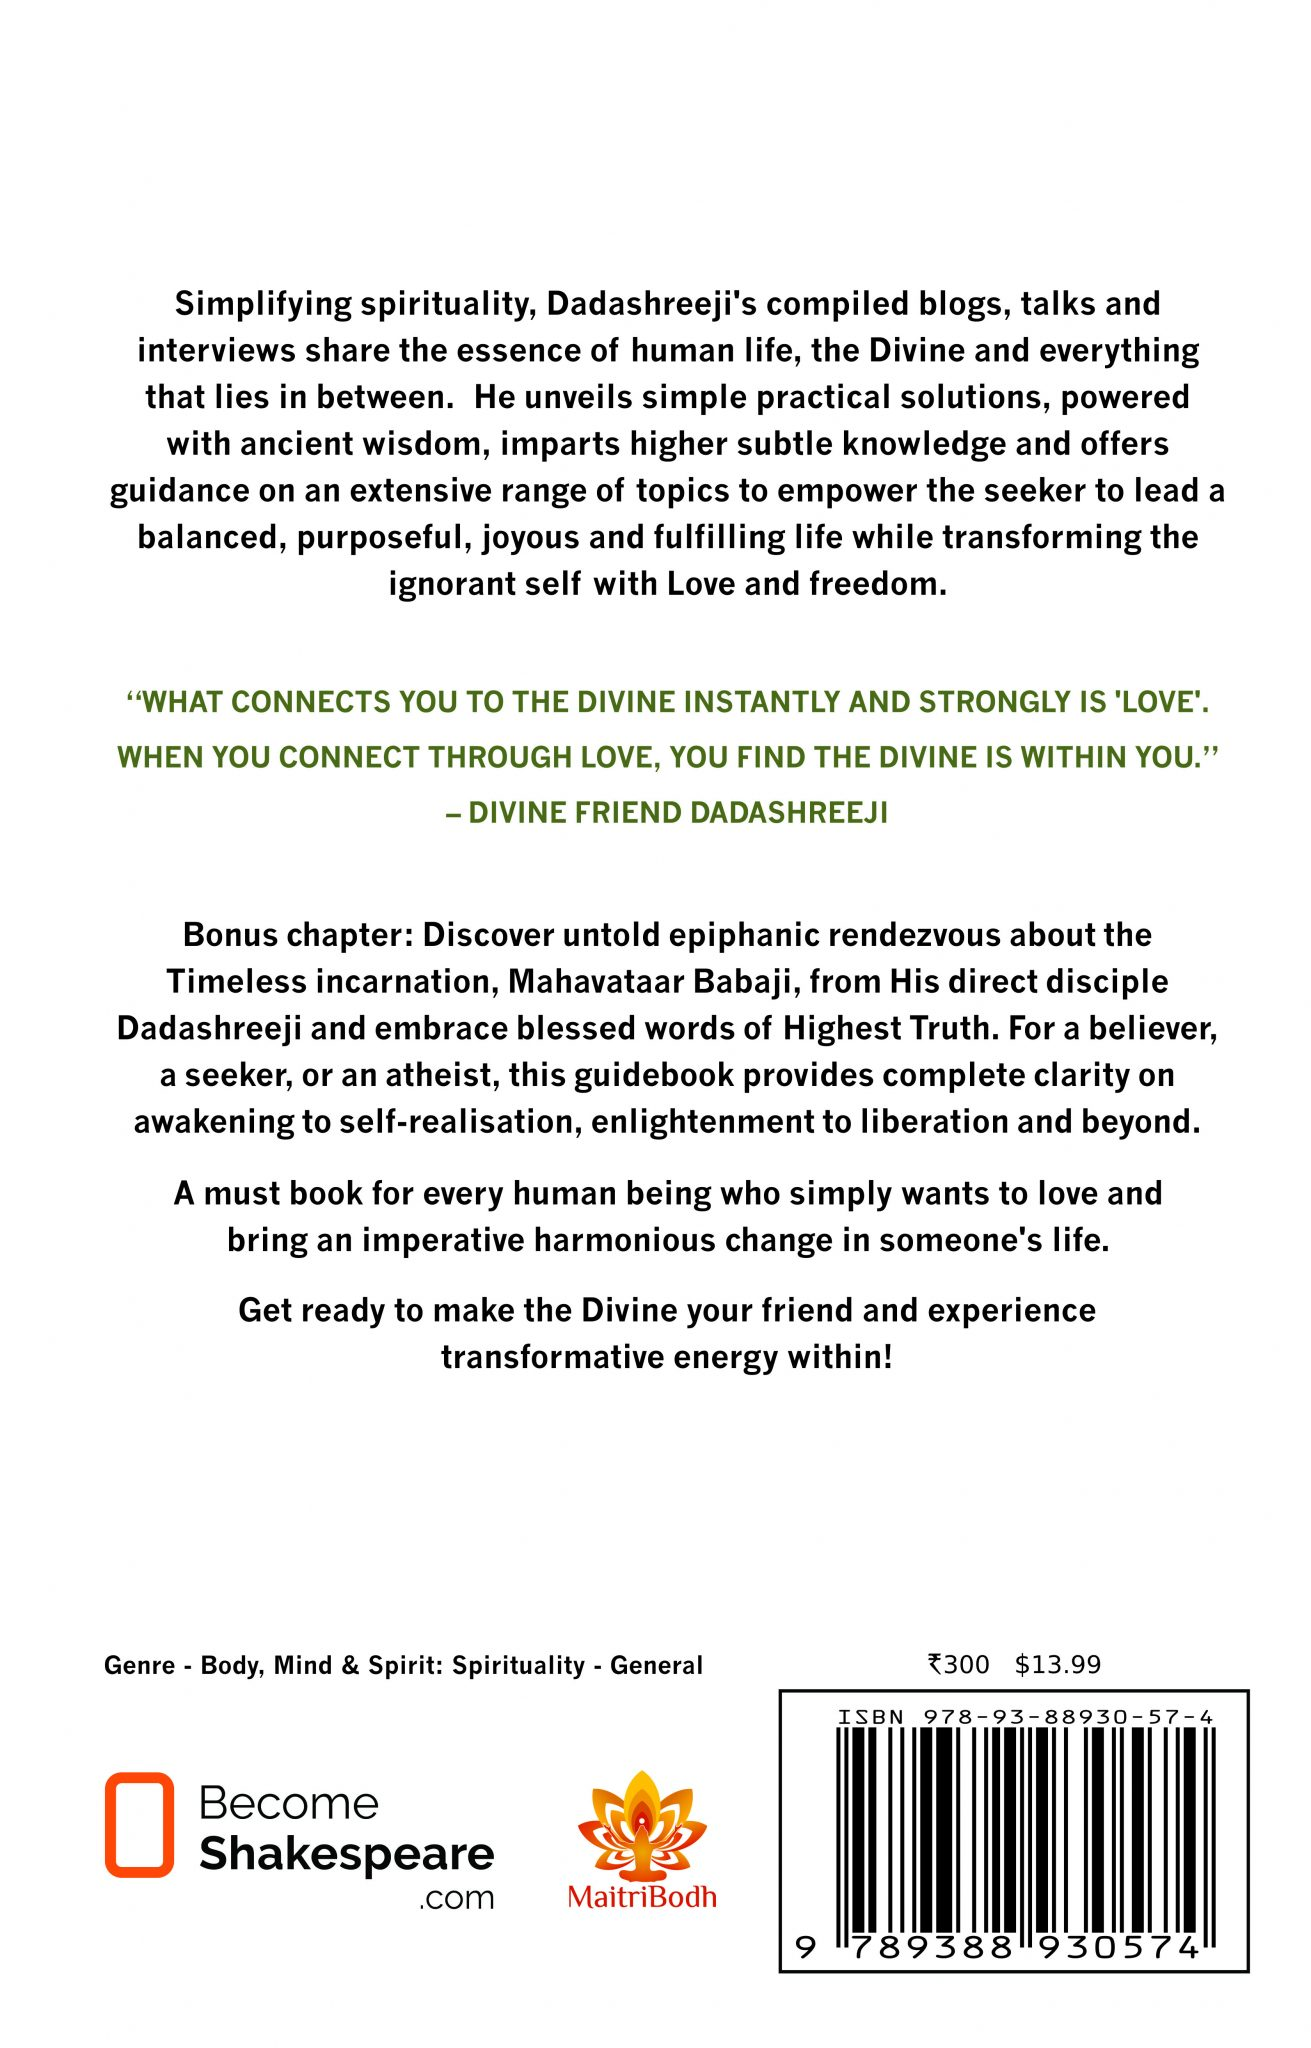barcode: (794, 1702, 1241, 1969)
